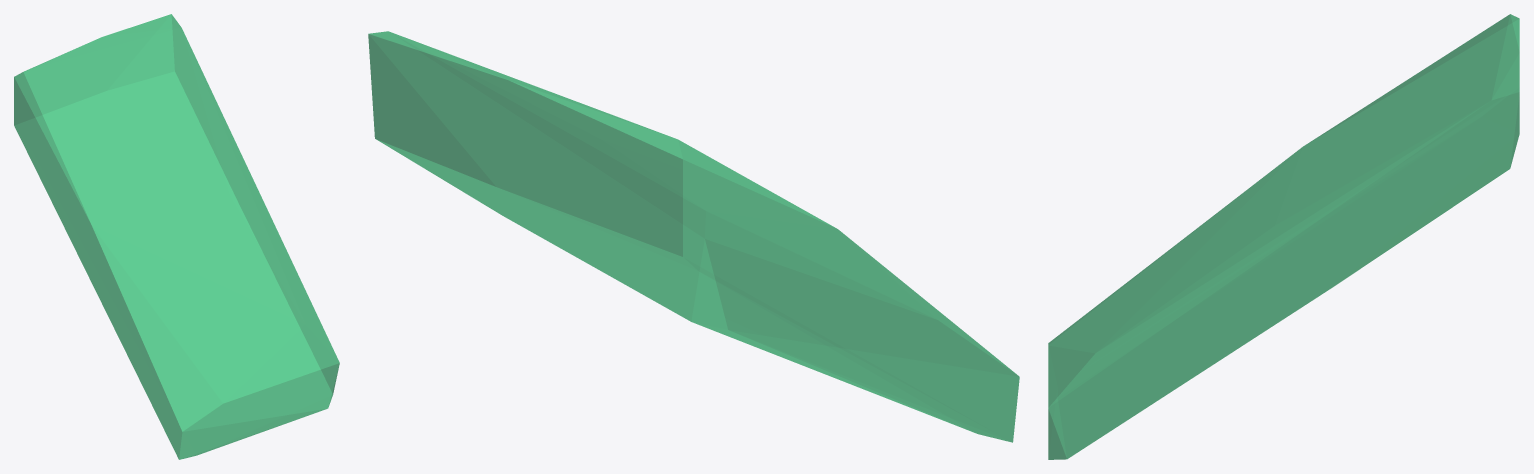
The picture shows the model from 3 angles, left to right: view 1: azimuth 30°, elevation 25°; view 2: azimuth 150°, elevation 25°; view 3: azimuth 270°, elevation 25°; orthographic projection. The views are drawn at different scales.
Visible parts, largest first — view 1: Shape_IndexedFaceSet.035_Shape_IndexedFaceSet.15240; view 2: Shape_IndexedFaceSet.035_Shape_IndexedFaceSet.15240; view 3: Shape_IndexedFaceSet.035_Shape_IndexedFaceSet.15240.
Part boxes in pixels (x1,y1,x2,y2): Shape_IndexedFaceSet.035_Shape_IndexedFaceSet.15240: (14,14,339,459); Shape_IndexedFaceSet.035_Shape_IndexedFaceSet.15240: (368,31,1019,442); Shape_IndexedFaceSet.035_Shape_IndexedFaceSet.15240: (1048,14,1519,459).
Bounding box in the file's own units: 0.0118 × 0.0205 × 0.0218.
